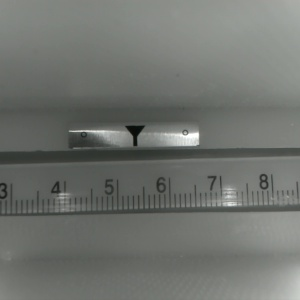3: (0, 183, 8, 199)
4: (50, 182, 60, 196)
5: (103, 179, 113, 195)
6: (156, 176, 166, 193)
7: (207, 176, 217, 191)
8: (258, 173, 267, 189)
finger: (123, 126, 144, 146)
